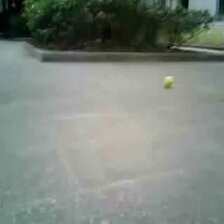tennis: (164, 75, 174, 86)
